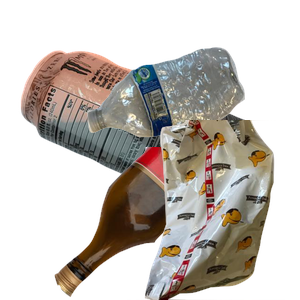glass: (52, 147, 292, 300)
metal: (18, 48, 258, 228)
plastic: (85, 45, 300, 175)
trash: (127, 120, 300, 300)
